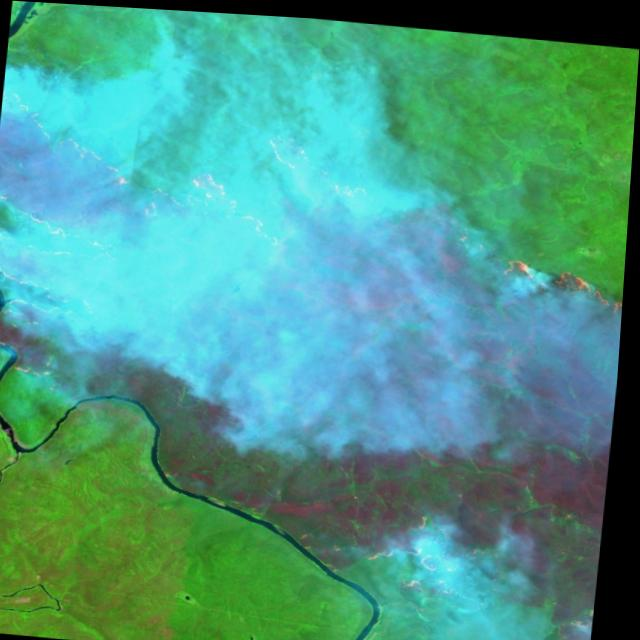fire: (0, 85, 636, 436)
